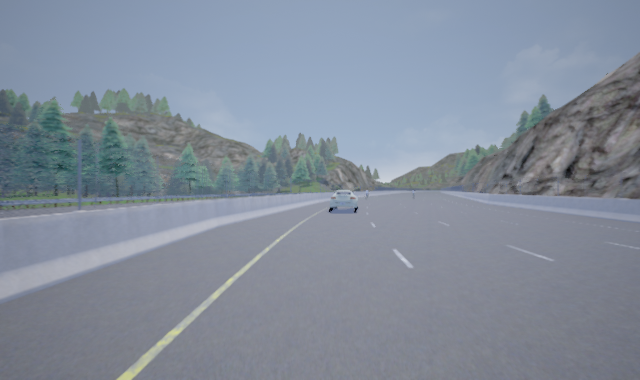vehicle: (327, 189, 359, 212)
